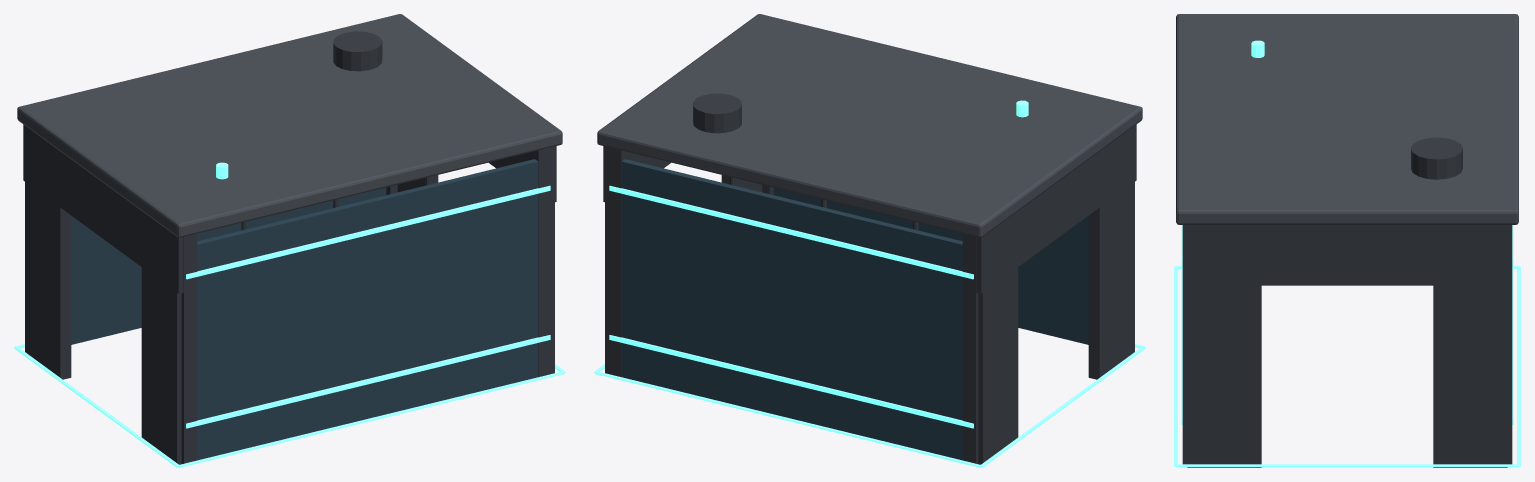
Rendered from paint_booth.glb.
3 renders of one model, left to right at view 1: azimuth 30°, elevation 25°; view 2: azimuth 150°, elevation 25°; view 3: azimuth 270°, elevation 25°, orthographic. The views are drawn at different scales.
Parts seen in each view (by area): view 1: part_wall_-1, part_roof, part_end_-1_1, part_end_-1_-1, part_wall_1, part_endtop_-1, part_col_-1-1, part_col_1-1, part_wallband_-1_62, part_wallband_-1_295, part_fan, part_outline_x0 (+2 smaller); view 2: part_wall_1, part_roof, part_end_-1_1, part_wall_-1, part_end_-1_-1, part_endtop_-1, part_col_-11, part_col_11, part_wallband_1_62, part_wallband_1_295, part_fan, part_outline_x1 (+2 smaller); view 3: part_roof, part_endtop_1, part_end_1_-1, part_end_1_1, part_fan, part_outline_z1, part_col_1-1, part_col_11, part_outline_x0, part_outline_x1.
Boxes of the visible parts, x1,y1,x2,y2 form: part_wall_-1: [197, 159, 538, 460]; part_roof: [17, 14, 562, 237]; part_end_-1_1: [25, 137, 71, 379]; part_end_-1_-1: [141, 223, 181, 464]; part_wall_1: [71, 187, 386, 344]; part_endtop_-1: [23, 124, 183, 293]; part_col_-1-1: [181, 234, 197, 463]; part_col_1-1: [531, 147, 552, 376]; part_wallband_-1_62: [186, 335, 550, 428]; part_wallband_-1_295: [186, 185, 550, 279]; part_fan: [333, 31, 382, 71]; part_outline_x0: [178, 372, 564, 467]; part_wall_1: [621, 159, 962, 460]; part_roof: [597, 14, 1142, 237]; part_end_-1_1: [978, 223, 1018, 464]; part_wall_-1: [773, 187, 1088, 344]; part_end_-1_-1: [1088, 182, 1134, 379]; part_endtop_-1: [976, 124, 1136, 293]; part_col_-11: [962, 234, 978, 463]; part_col_11: [607, 147, 628, 376]; part_wallband_1_62: [609, 335, 973, 428]; part_wallband_1_295: [609, 185, 973, 279]; part_fan: [693, 93, 741, 133]; part_outline_x1: [595, 372, 981, 467]; part_roof: [1176, 14, 1518, 224]; part_endtop_1: [1183, 225, 1511, 285]; part_end_1_-1: [1187, 238, 1261, 467]; part_end_1_1: [1433, 238, 1507, 467]; part_fan: [1411, 137, 1462, 179]; part_outline_z1: [1176, 464, 1518, 467]; part_col_1-1: [1182, 225, 1187, 464]; part_col_11: [1507, 225, 1512, 464]; part_outline_x0: [1174, 266, 1177, 466]; part_outline_x1: [1517, 266, 1520, 466].
Size of the model in its own units: 6.36 by 4.13 by 4.65.
